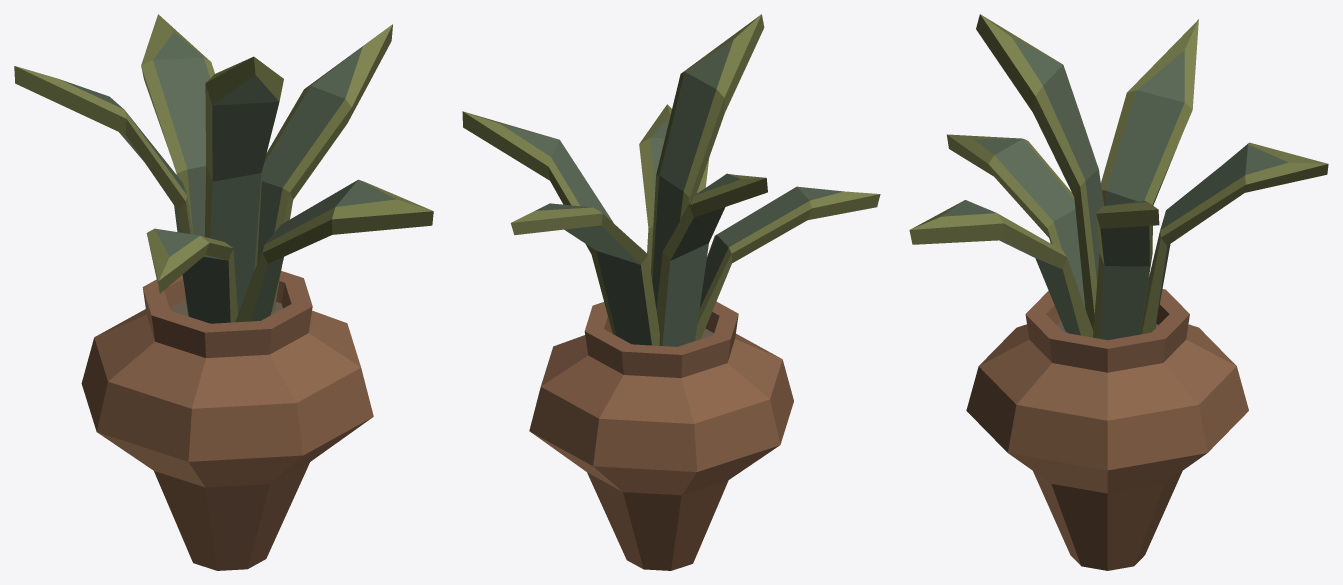
Rendered from SM_Prop_Plant_01.glb.
3 renders of one model, left to right at view 1: azimuth 30°, elevation 25°; view 2: azimuth 150°, elevation 25°; view 3: azimuth 270°, elevation 25°, orthographic. The views are drawn at different scales.
Parts seen in each view (by area): view 1: SM_Prop_Plant_01; view 2: SM_Prop_Plant_01; view 3: SM_Prop_Plant_01.
Boxes of the visible parts, x1=… form: SM_Prop_Plant_01: x1=14, y1=14, x2=433, y2=570; SM_Prop_Plant_01: x1=462, y1=14, x2=880, y2=570; SM_Prop_Plant_01: x1=909, y1=14, x2=1328, y2=570.
Size of the model in its own units: 0.678 by 1.01 by 0.7364.
1 material, 1 textured.
